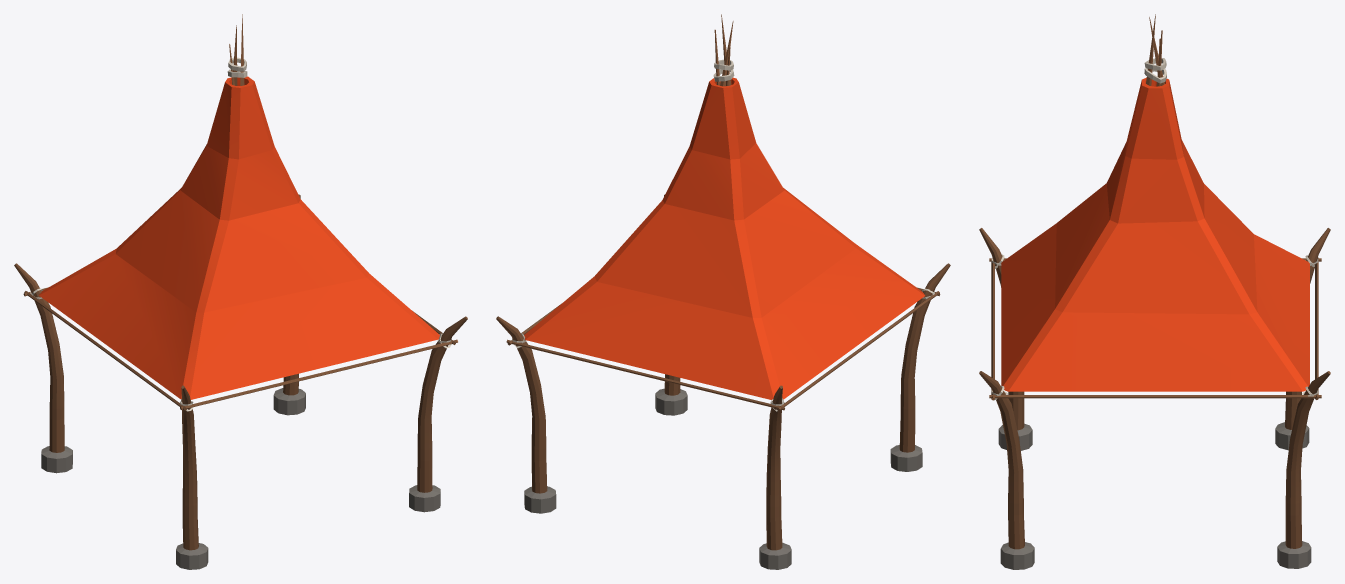
File: Tent.fbx
3 renders of one model, left to right at view 1: azimuth 30°, elevation 25°; view 2: azimuth 150°, elevation 25°; view 3: azimuth 270°, elevation 25°, orthographic. The views are drawn at different scales.
Visible parts, largest first — view 1: Tent; view 2: Tent; view 3: Tent.
Boxes of the visible parts, x1=… form: Tent: x1=14, y1=14, x2=467, y2=569; Tent: x1=496, y1=14, x2=950, y2=569; Tent: x1=979, y1=14, x2=1330, y2=569.
Size of the model in its own units: 6.59 by 10.37 by 6.74.
Materials: 1 (1 with a texture image).
